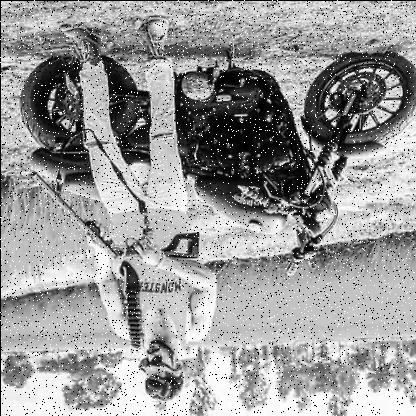rifle: (27, 168, 201, 260)
